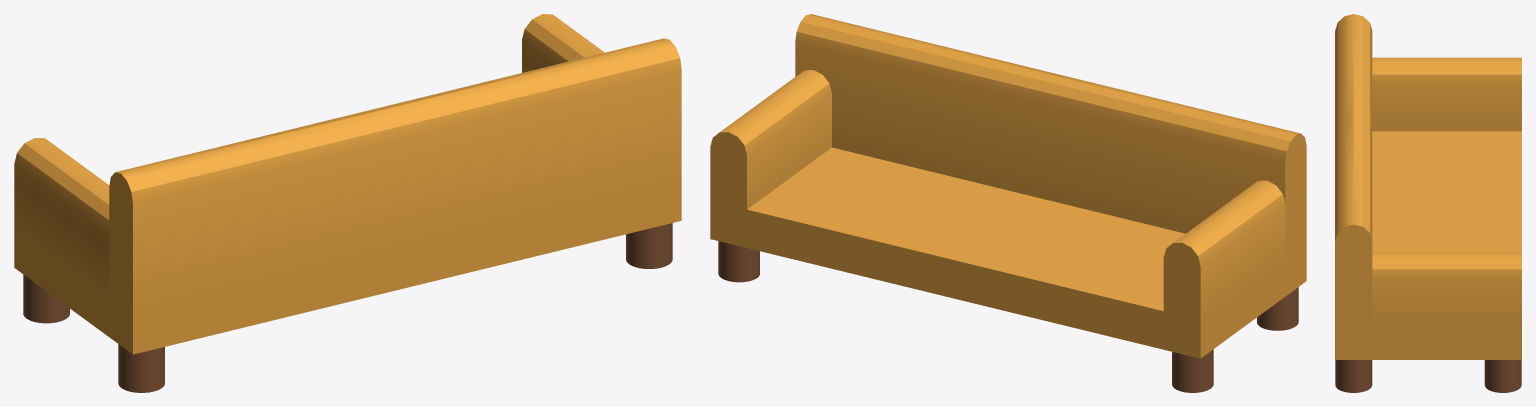
The model's file is Couch1.fbx.
3 views of the same model, side by side, from view 1: azimuth 30°, elevation 25°; view 2: azimuth 150°, elevation 25°; view 3: azimuth 270°, elevation 25° (orthographic). The views are drawn at different scales.
Visible parts, largest first — view 1: Couch1; view 2: Couch1; view 3: Couch1.
Part boxes in pixels (x1,y1,x2,y2): Couch1: [14, 14, 681, 392]; Couch1: [710, 14, 1306, 392]; Couch1: [1335, 14, 1521, 392].
Size of the model in its own units: 200 by 74.69 by 75.
